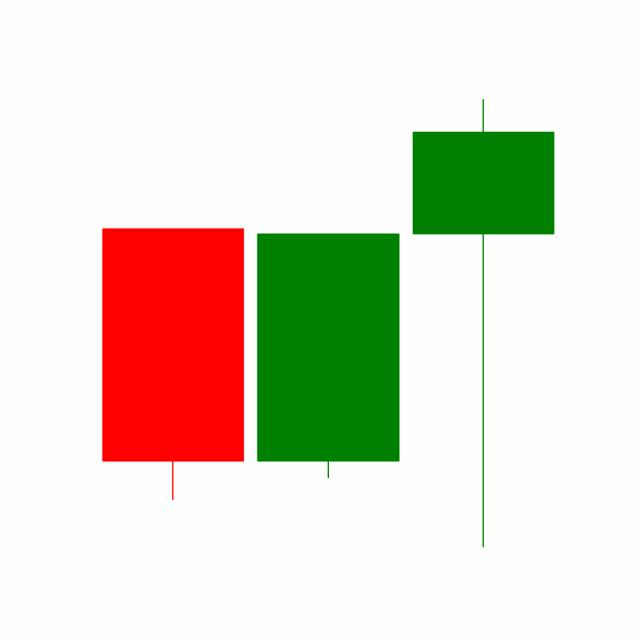Marubozu: (249, 230, 406, 482)
